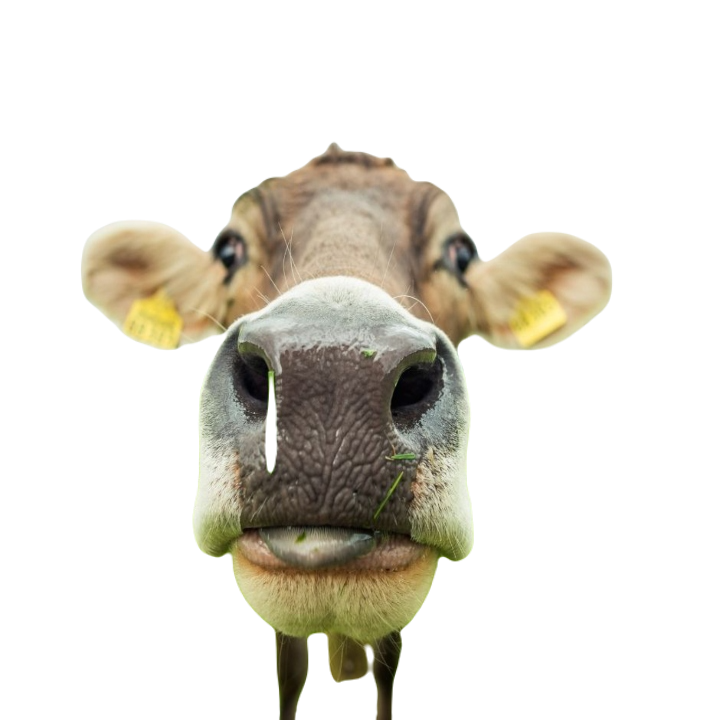Cow: (79, 144, 613, 719)
